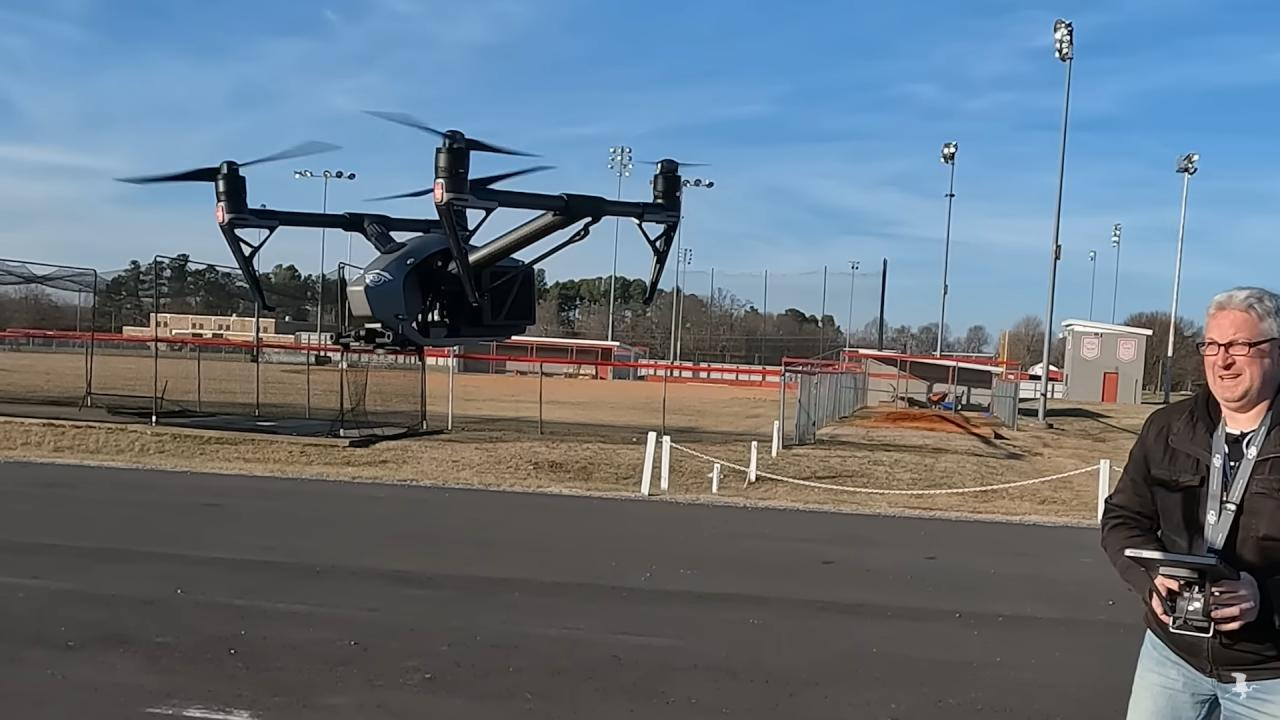Drone: (96, 90, 748, 372)
